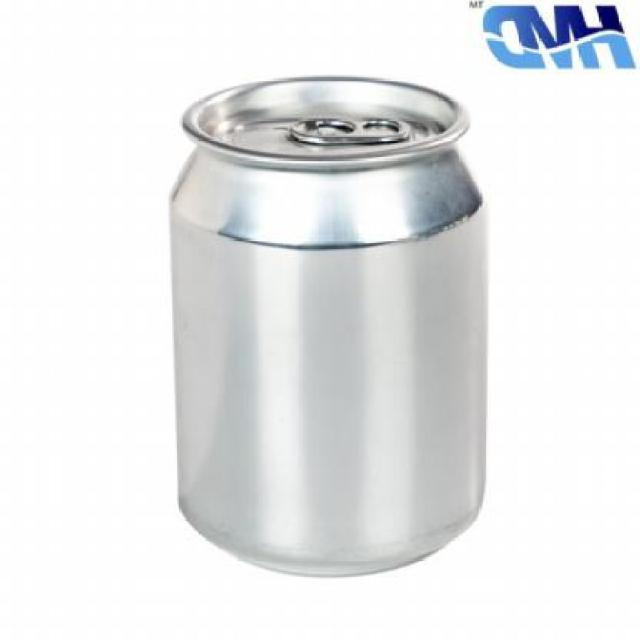can: (131, 74, 514, 591)
